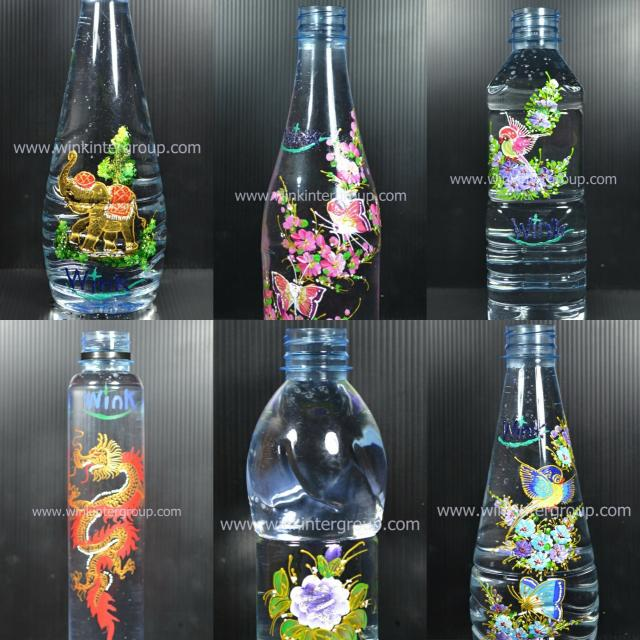plastik: (246, 329, 386, 640), (470, 325, 599, 640), (42, 0, 166, 314), (261, 6, 381, 320), (486, 8, 586, 319), (68, 330, 145, 640)
